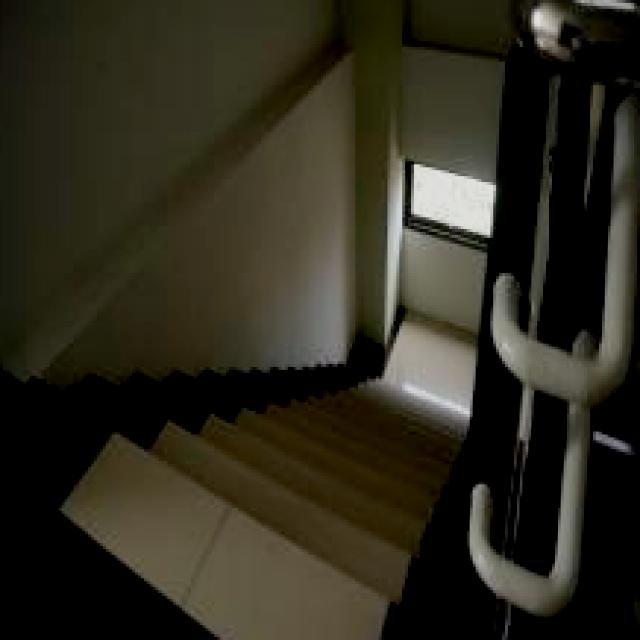downstair: (51, 403, 427, 640)
